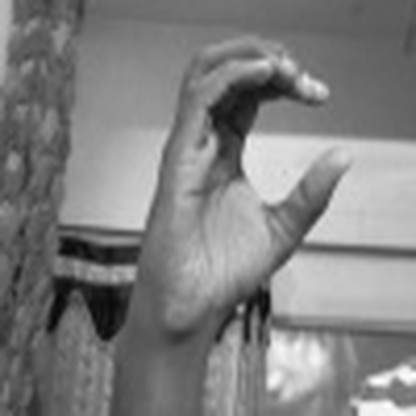c: (141, 27, 363, 295)
